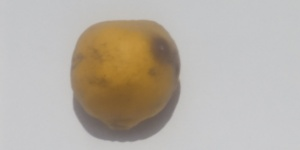BAD: (71, 19, 181, 132)
